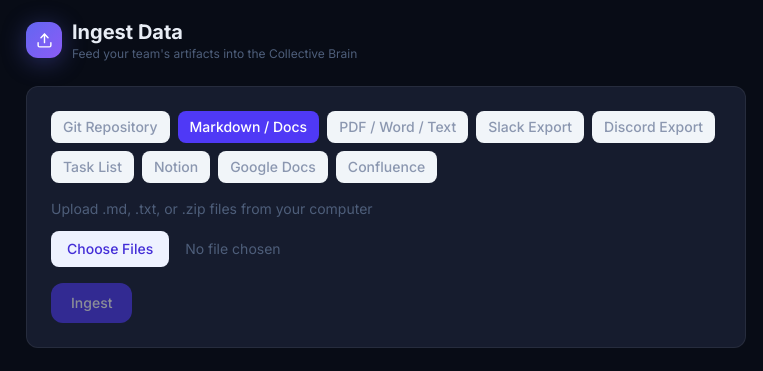
Scenario: IngestPage › switches to git repo input when Git Repository is selected
Step 1. Click the button "Git Repository" → (110, 127), box x1=51 y1=111 x2=170 y2=143
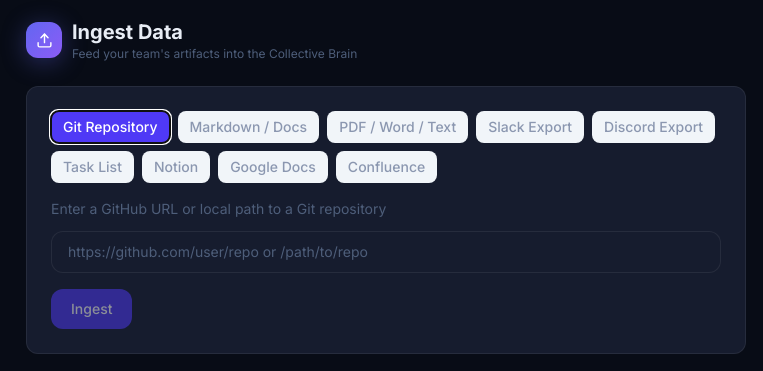
Expected: the field with placeholder "https://github.com/user/repo or /path/to/repo" is shown, x1=51 y1=231 x2=721 y2=273
Expected: the text "Enter a GitHub URL or local path to a Git repository" is shown, x1=51 y1=200 x2=386 y2=217
